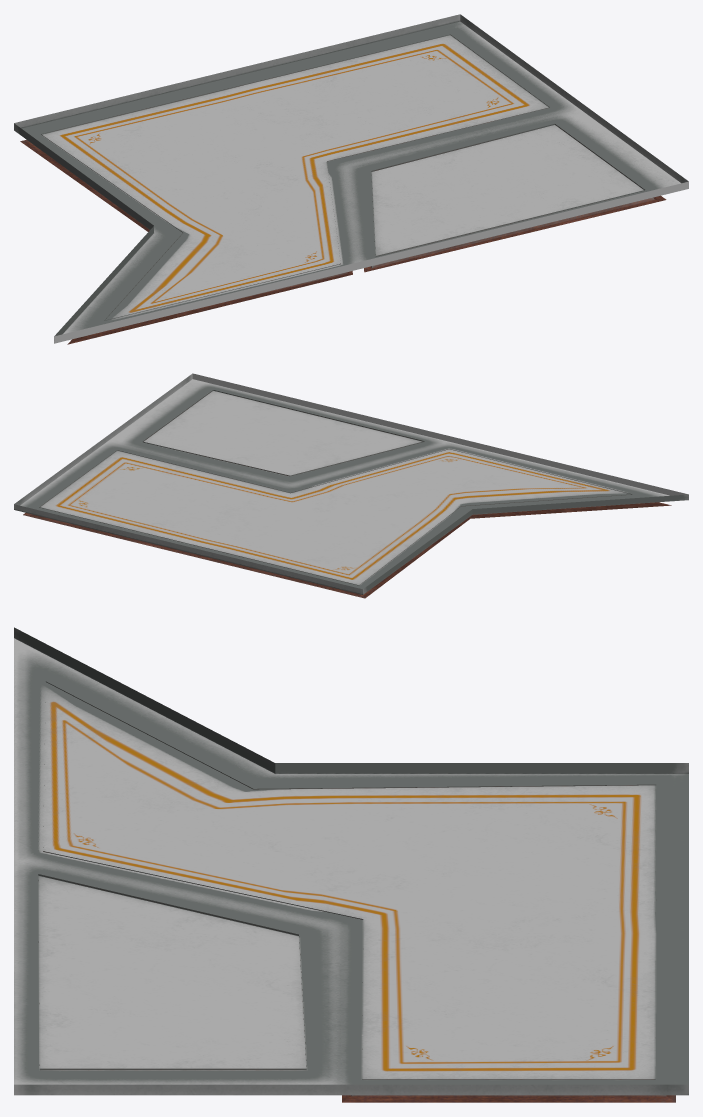
File: SM_Bath_Roof.fbx
The picture shows the model from 3 angles, top to bottom: view 1: azimuth 30°, elevation 25°; view 2: azimuth 150°, elevation 25°; view 3: azimuth 270°, elevation 25°; orthographic projection. The views are drawn at different scales.
Visible parts, largest first — view 1: SM_Bath_Roof; view 2: SM_Bath_Roof; view 3: SM_Bath_Roof.
Part boxes in pixels (box(x1,y1,x2,y2)): SM_Bath_Roof: box(14, 14, 688, 344); SM_Bath_Roof: box(14, 373, 688, 598); SM_Bath_Roof: box(14, 627, 688, 1102).
Size of the model in its own units: 380 by 237 by 8.82.
Materials: 1 (1 with a texture image).
